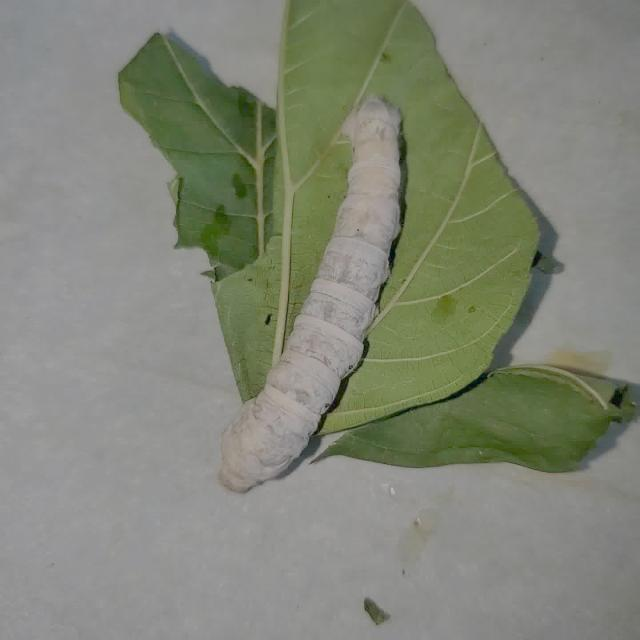Grasserie: (205, 84, 424, 504)
